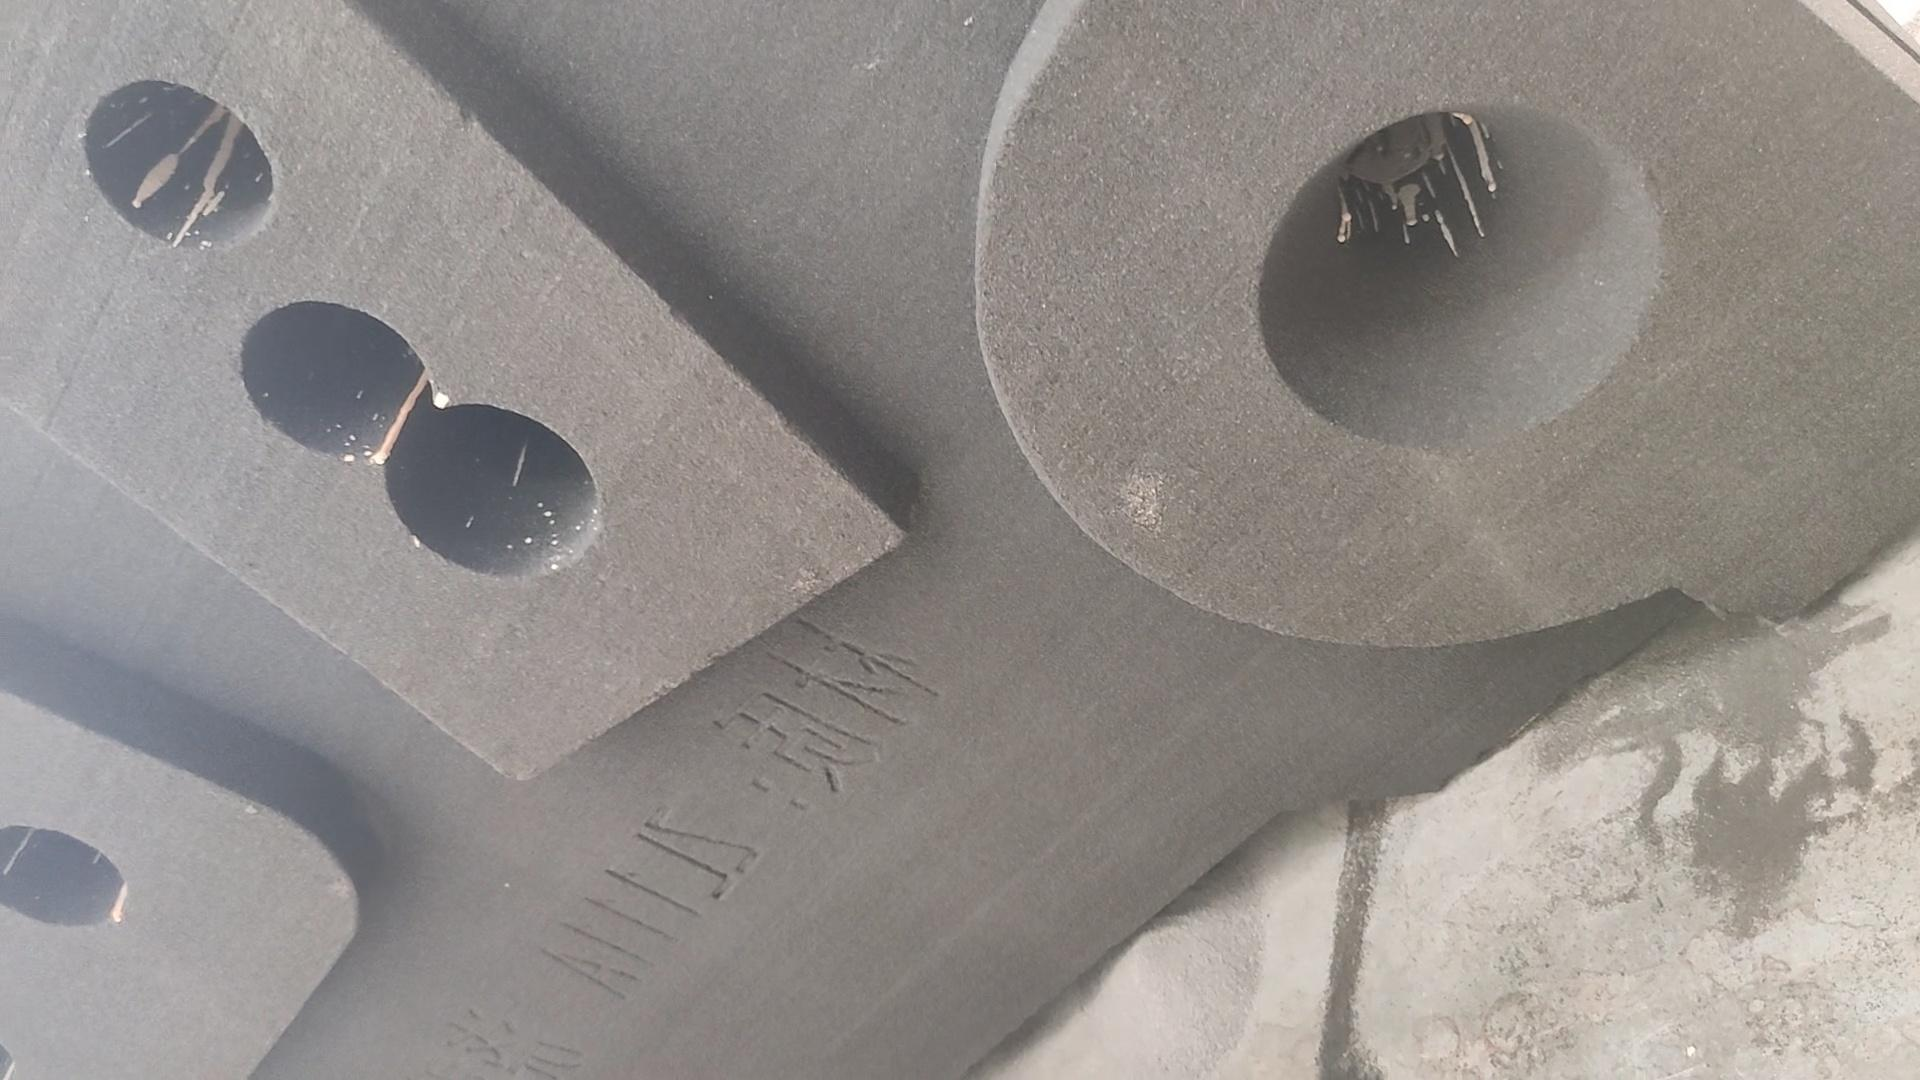pouring hole: (1255, 100, 1654, 451)
